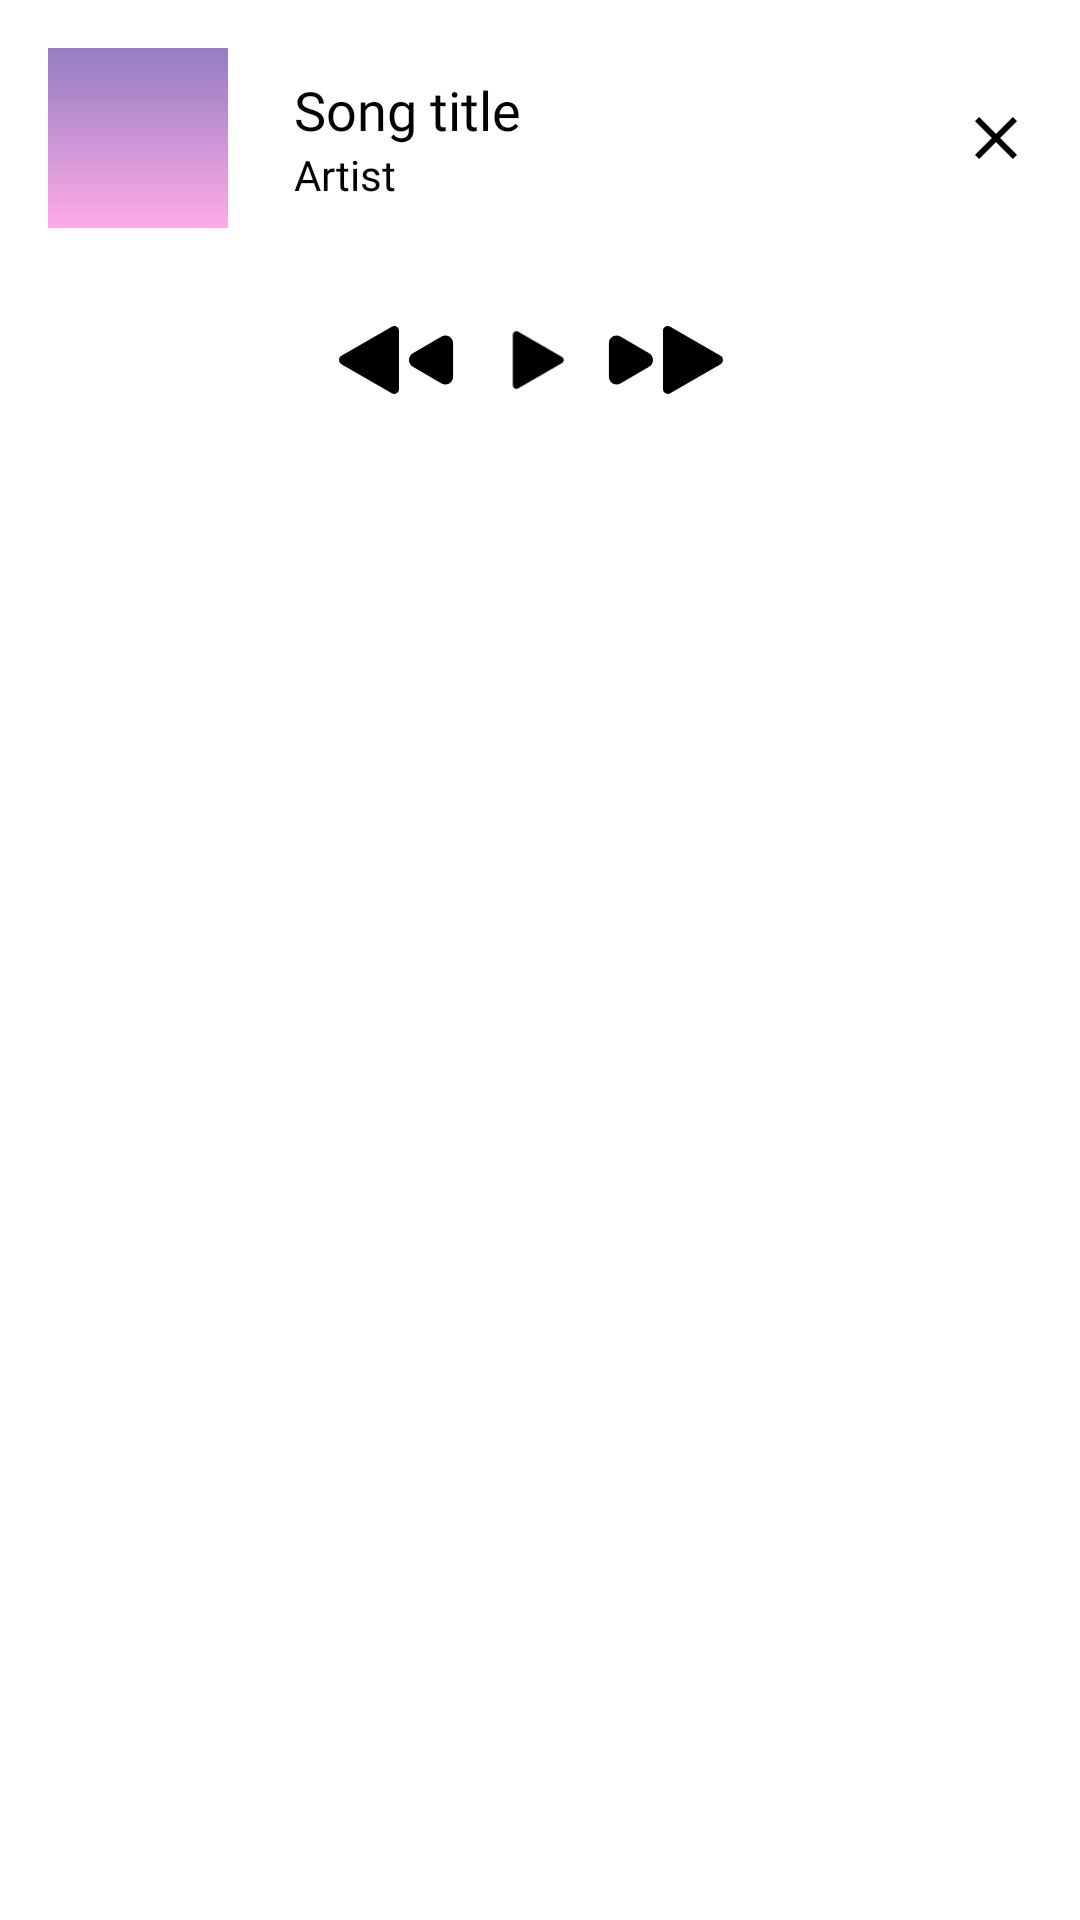

Icon bounding boxes for this 1080*1920 phone screenshot, format (left=x1, top=y1, right=x2, bottom=y2):
cancel: (left=975, top=117, right=1017, bottom=159)
next: (left=663, top=326, right=723, bottom=394), (left=609, top=335, right=653, bottom=385)
play: (left=512, top=331, right=564, bottom=390)
prev: (left=339, top=326, right=399, bottom=394), (left=409, top=335, right=453, bottom=385)
